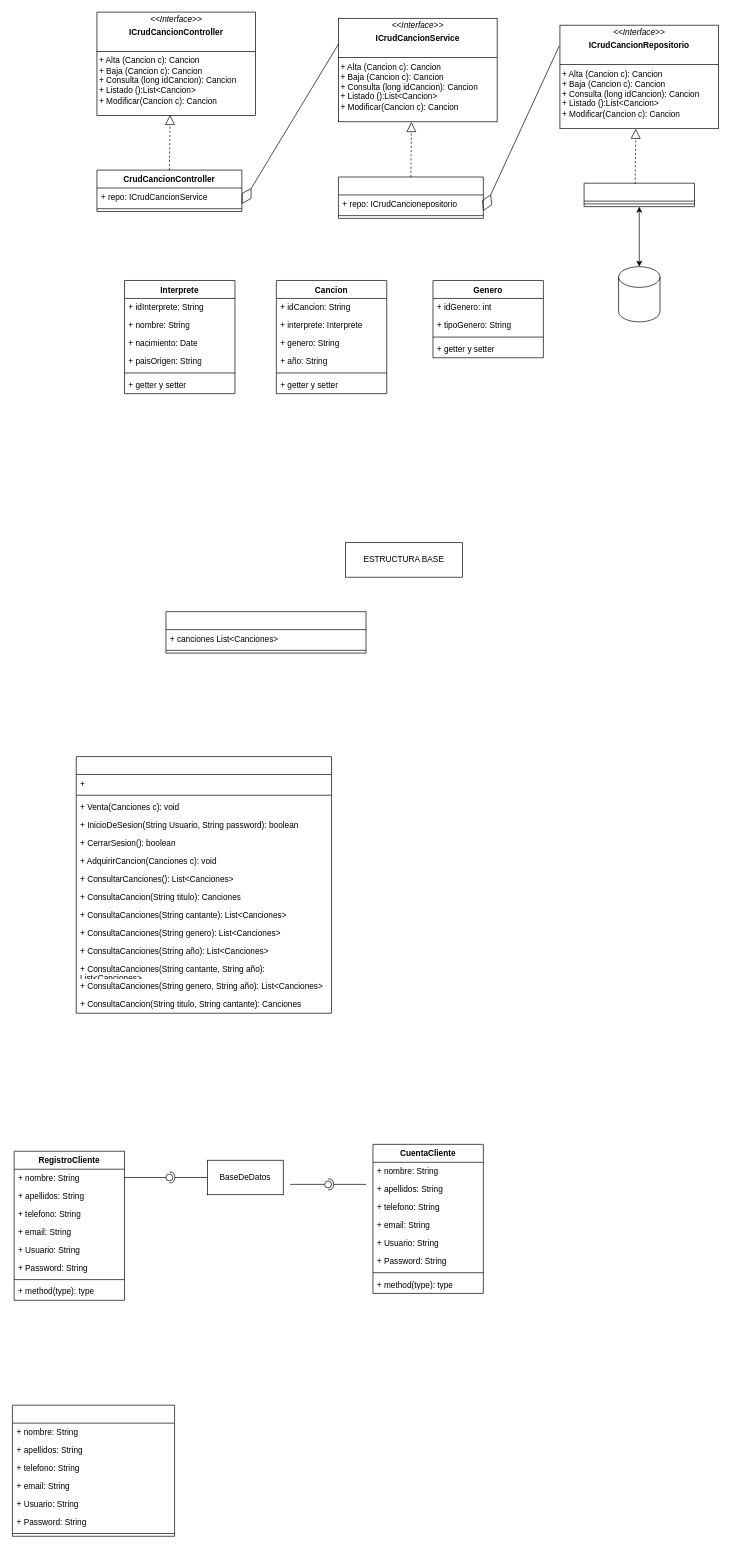
The diagram is 731 pixels wide and 1548 high, and some of its shapes have lost their labels. Each missing label, with the box of its shape:
BASE DE DATOS (Datos discos tienda): (165, 611, 366, 653)
BASE DE DATOS (registro cliente): (12, 1404, 175, 1536)
CancionRepositorio: (583, 183, 694, 207)
CrudCancionServicio: (338, 176, 483, 218)
TiendaDiscos: (76, 756, 332, 1013)
